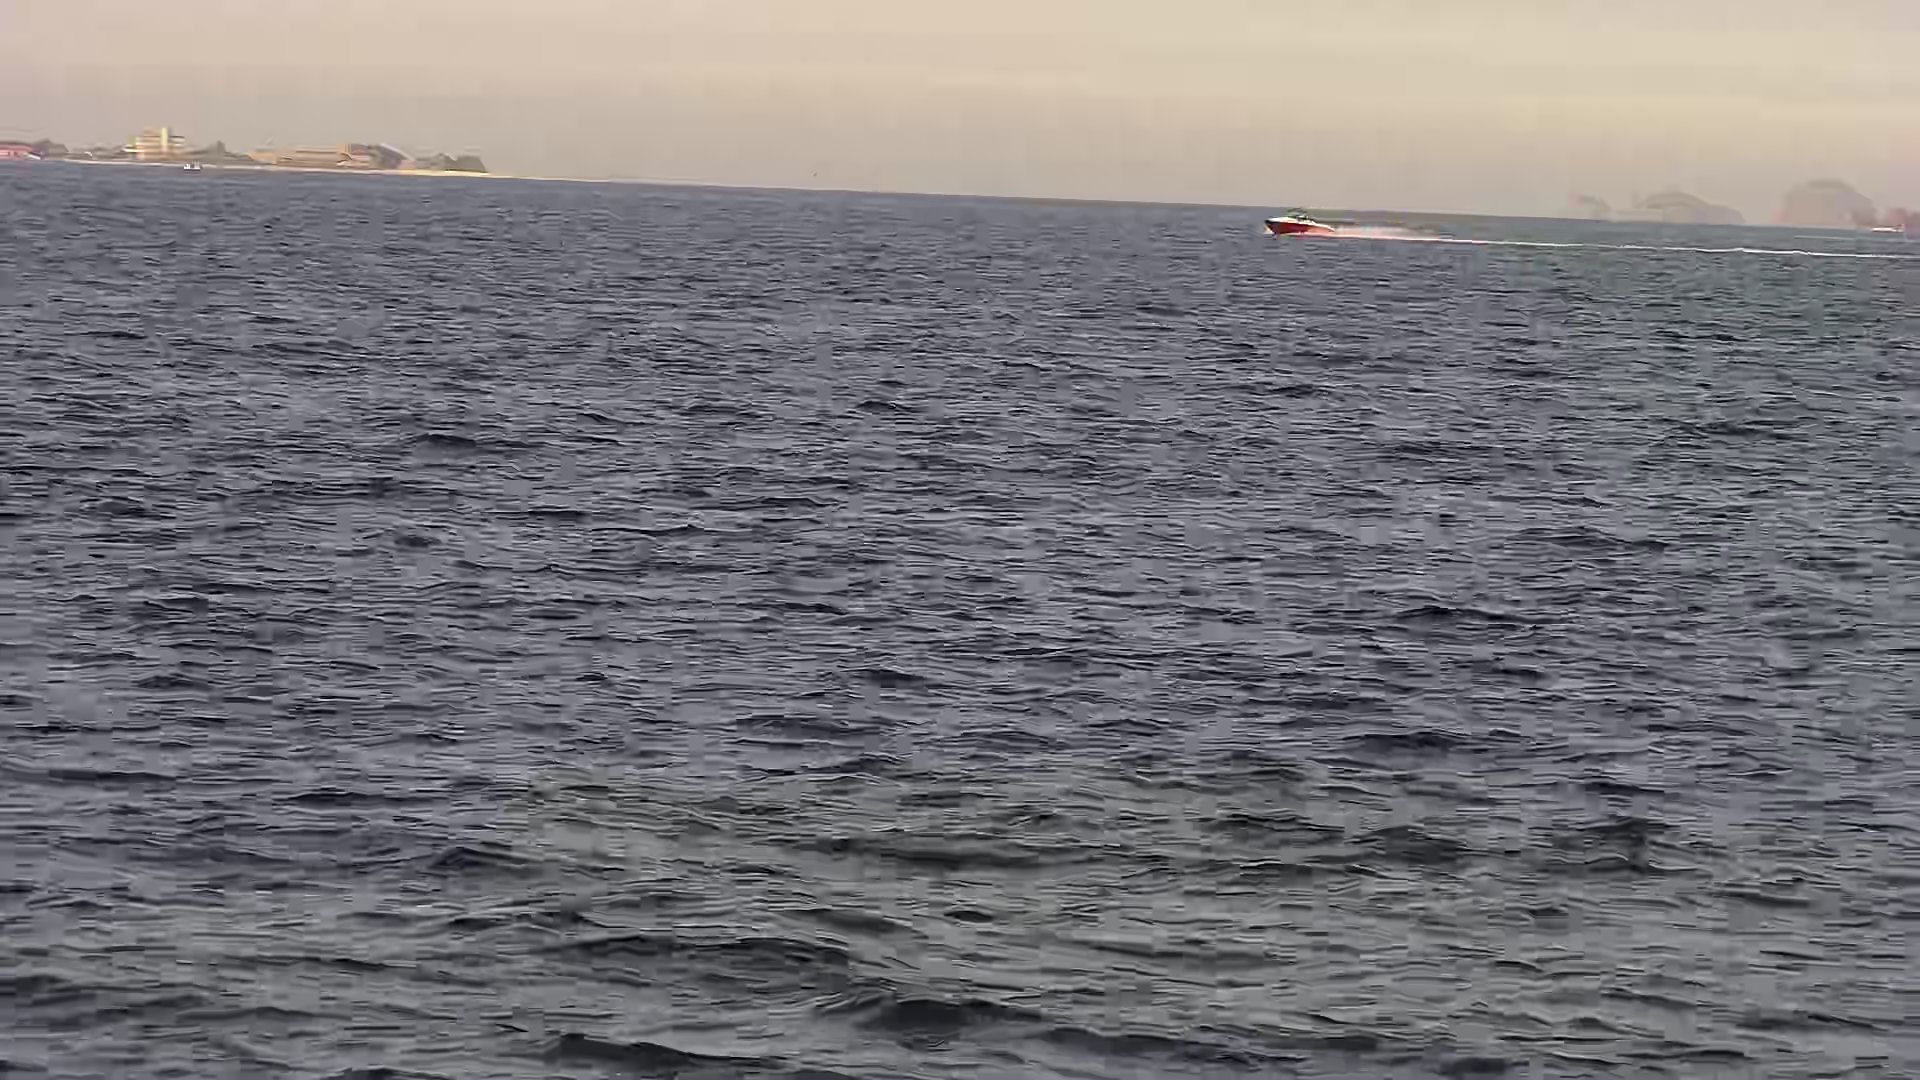boat: (1254, 196, 1337, 245)
